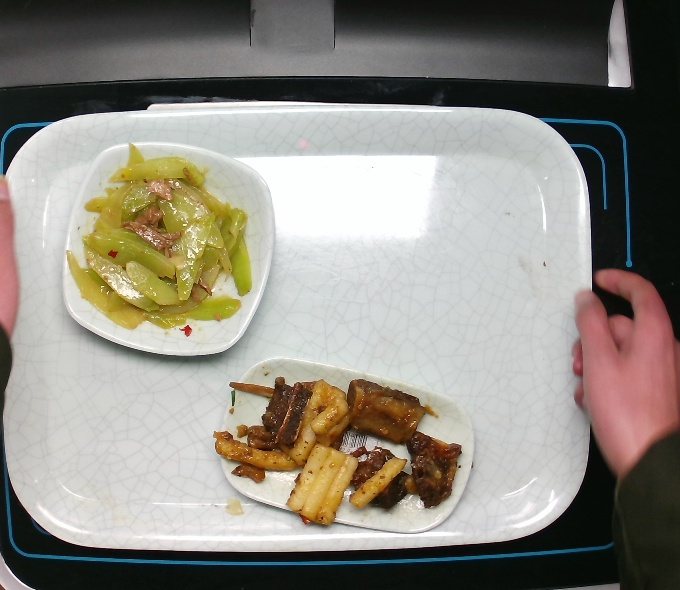wcq-NianGaoZaiPai: (212, 374, 464, 533)
wcq-WoSun: (63, 142, 258, 333)
